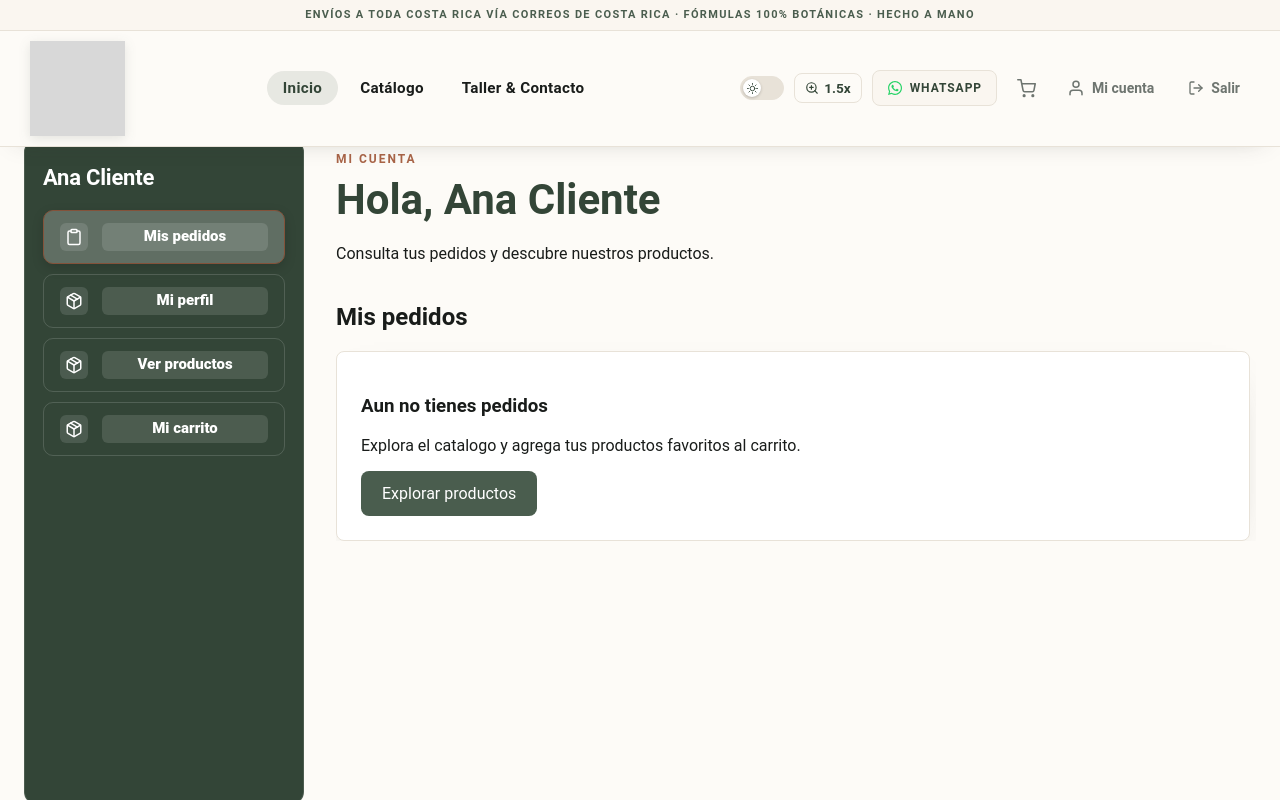
Test case: carrito y áreas privadas › muestra perfil de cliente, permite cambiar sección y guardar datos
Expected: the heading "Hola, Ana Cliente" is shown, [336,175,660,224]
Expected: the heading "Aun no tienes pedidos" is shown, [361,395,548,417]
Click the button "Mi perfil" at [164, 301], box [43,274,285,328]
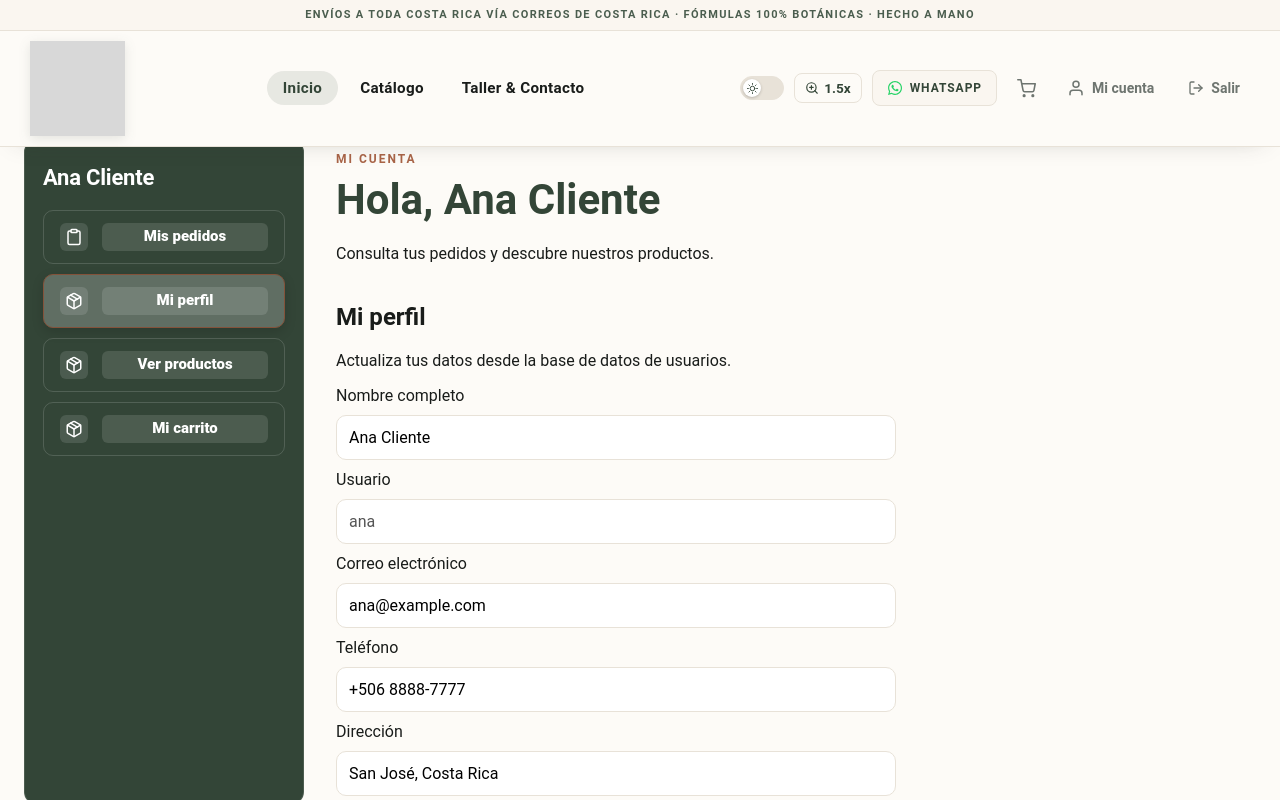
Replace the text in the 1st field showing "Ana Cliente" with "Ana Actualizada" at [616, 438], box [336,415,896,460]
(page scrolled)
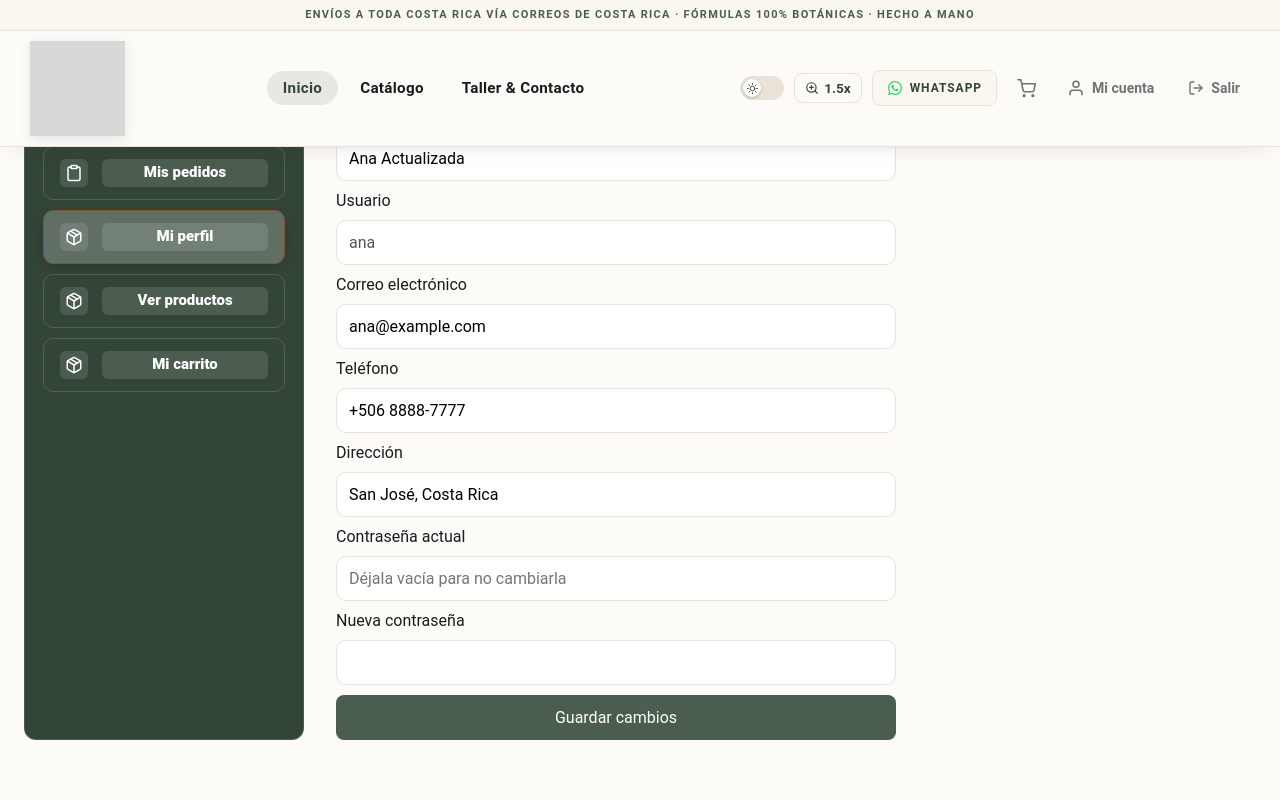
Click the button "Guardar cambios" at [616, 718], box [336,695,896,740]
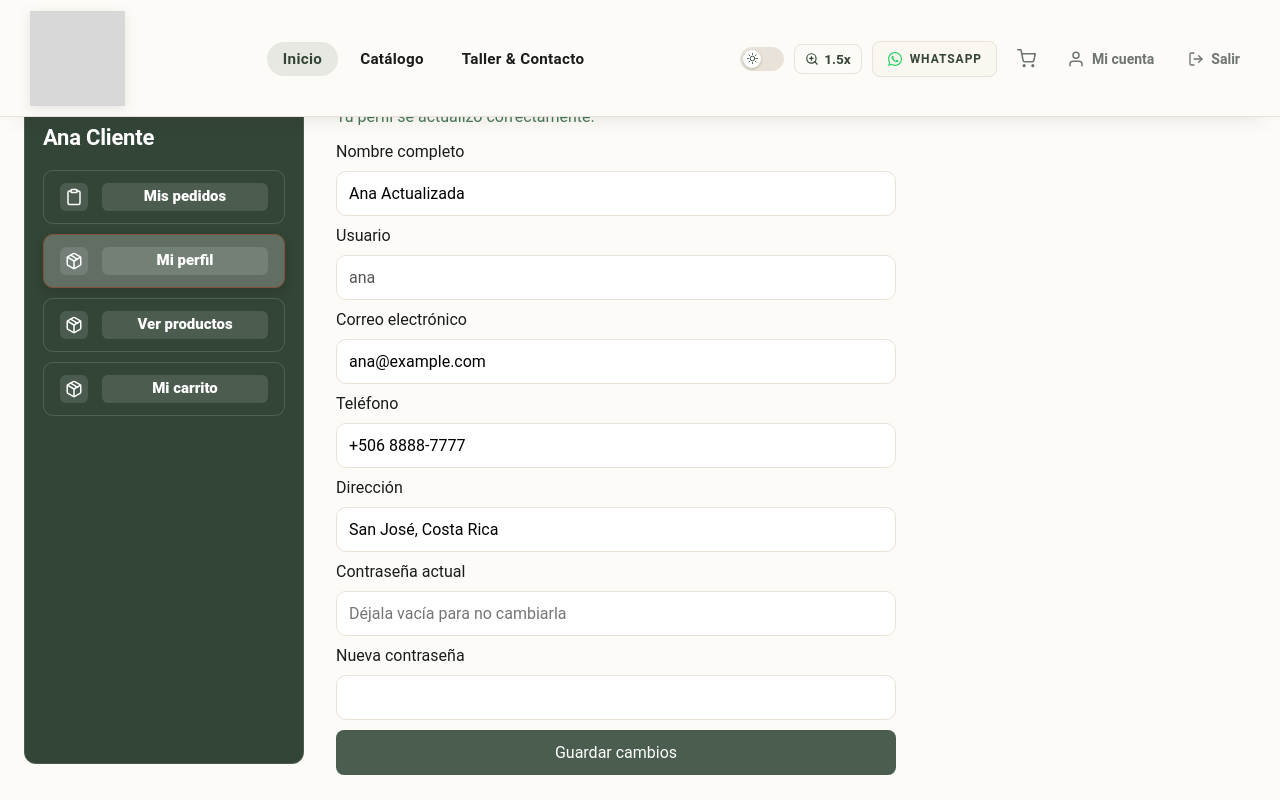
Result: the text "Tu perfil se actualizó correctamente." is shown at [336,107,595,126]
